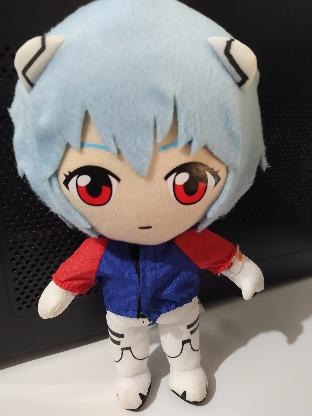rei-plush: (0, 0, 274, 394)
